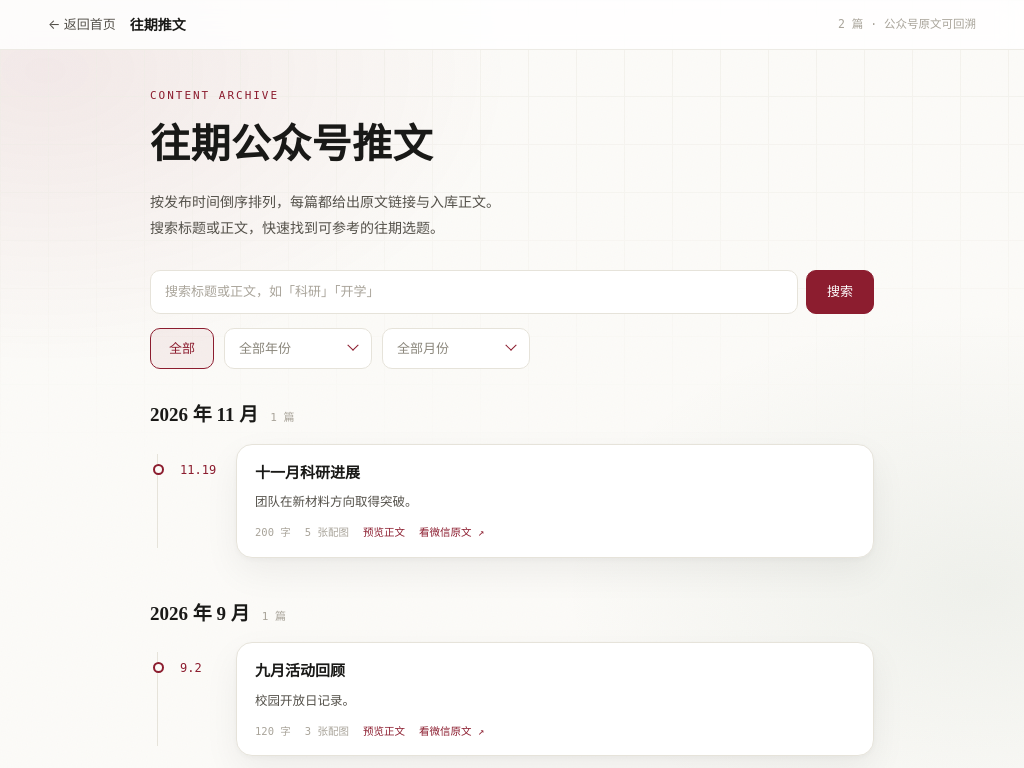
Scenario: 往期推文档案页 › 预览正文并直达原文
Expected: the link "十一月科研进展" is shown, [255,462,360,482]
Click the button "预览正文" in the row of "200" at (384, 533), box [363,525,405,541]
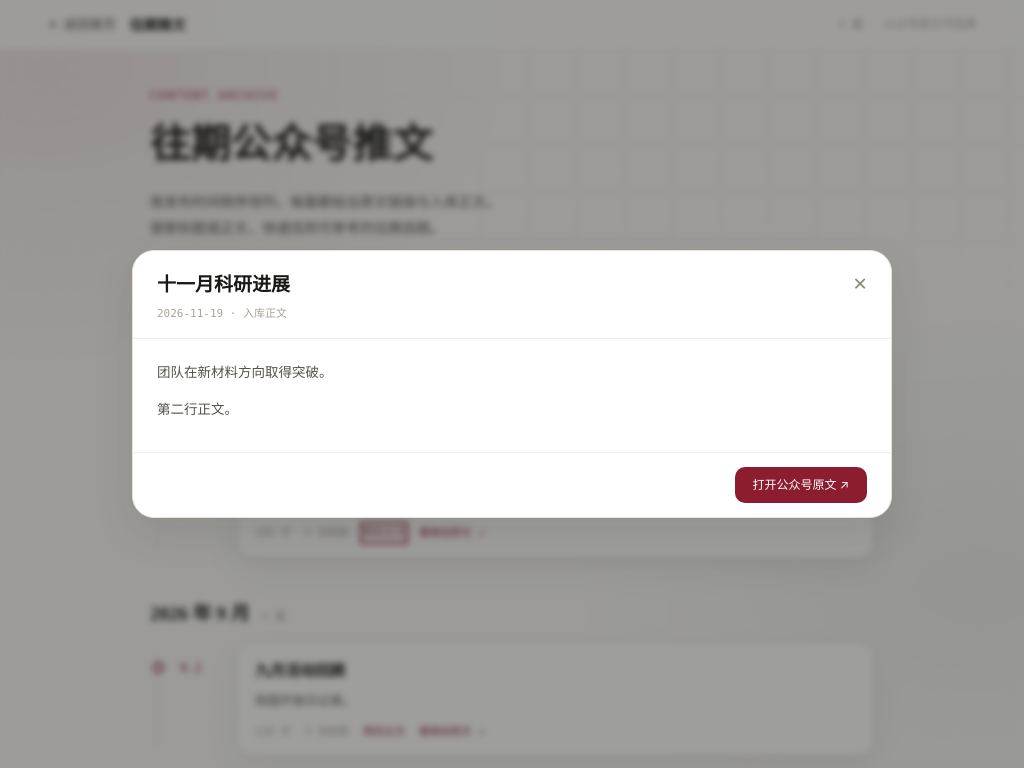
Now the dialog is shown, box [132,250,892,518]
Now the text "第二行正文。" is shown, box [157,400,238,418]
Click the button named "关闭预览" at (860, 283), box [853,271,867,295]
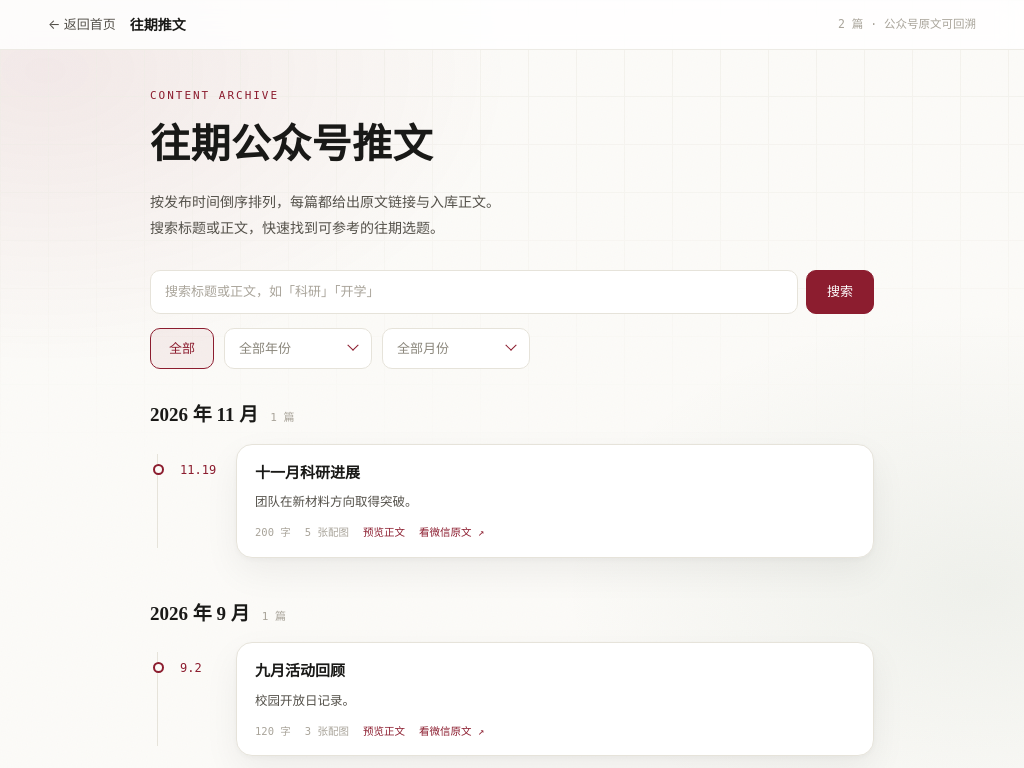
Now the dialog is gone
